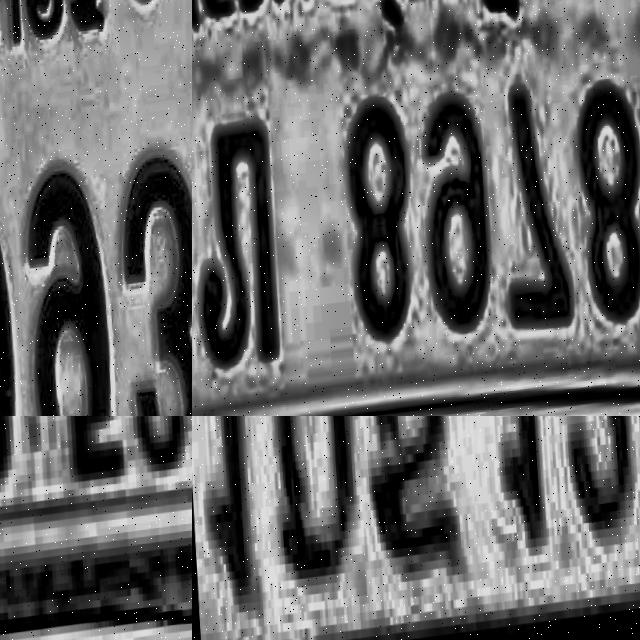license-plate: (192, 0, 640, 416), (192, 416, 640, 640), (0, 0, 192, 416), (0, 416, 192, 609)
